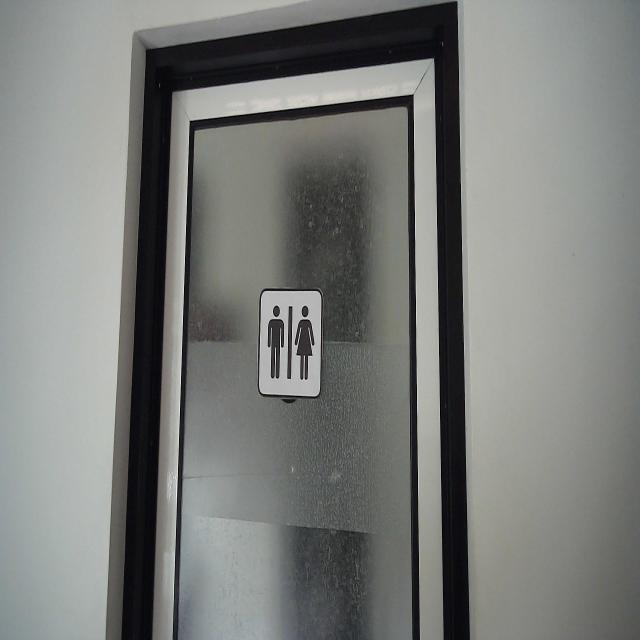restroom: (255, 284, 325, 404)
